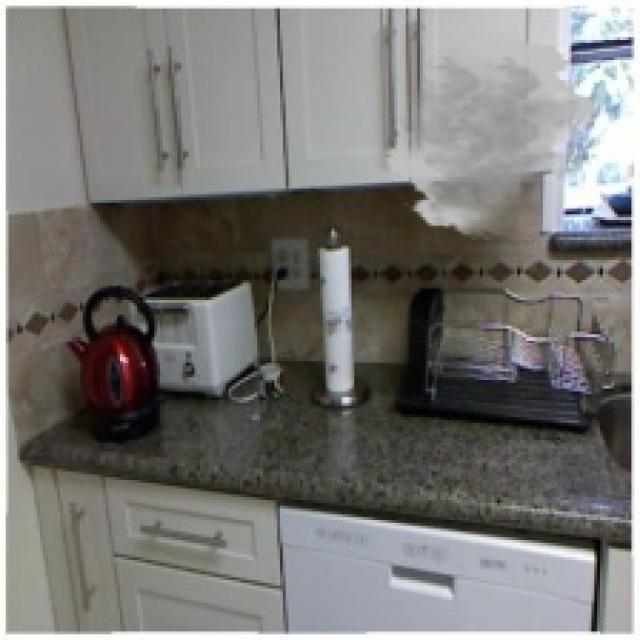Smoke: (383, 31, 600, 240)
